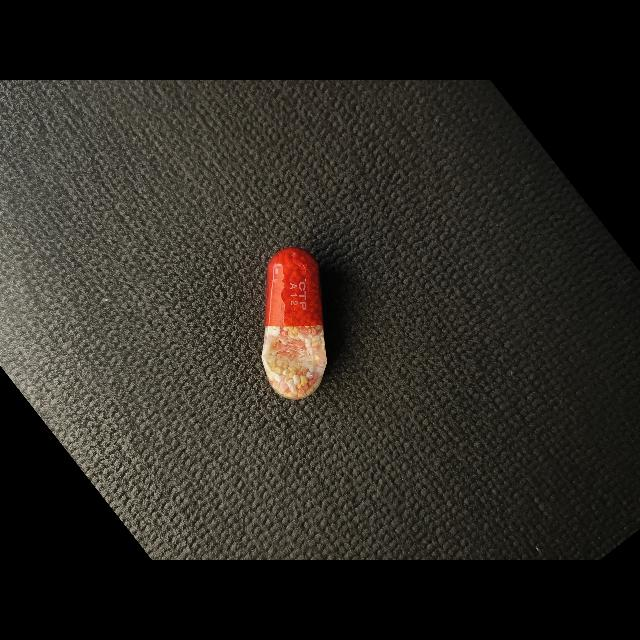Defective Capsule: (261, 247, 327, 400)
